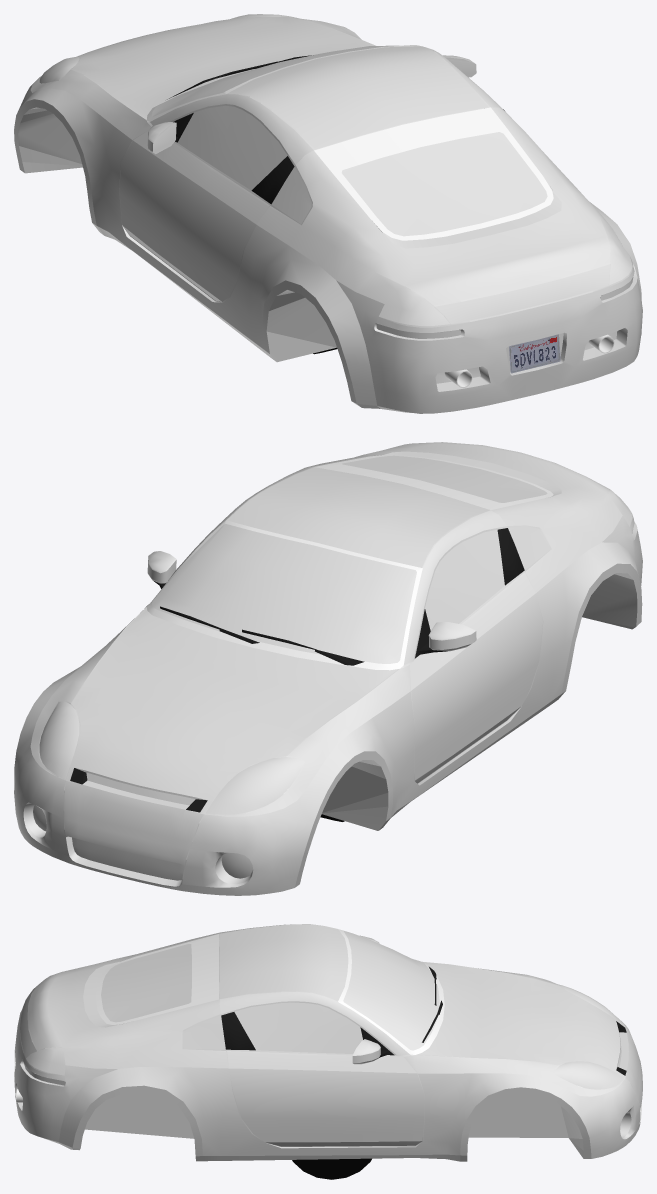
3 views of the same model, one above another, from view 1: azimuth 30°, elevation 25°; view 2: azimuth 150°, elevation 25°; view 3: azimuth 270°, elevation 25° (orthographic). The views are drawn at different scales.
Parts seen in each view (by area): view 1: va_350z_04/resources/vehicle/va_350z_04/body_lod_0.xrsc@vroo; view 2: va_350z_04/resources/vehicle/va_350z_04/body_lod_0.xrsc@vroo; view 3: va_350z_04/resources/vehicle/va_350z_04/body_lod_0.xrsc@vroo.
Boxes of the visible parts, x1,y1,x2,y2 form: va_350z_04/resources/vehicle/va_350z_04/body_lod_0.xrsc@vroo: (14, 14, 642, 413); va_350z_04/resources/vehicle/va_350z_04/body_lod_0.xrsc@vroo: (14, 442, 642, 895); va_350z_04/resources/vehicle/va_350z_04/body_lod_0.xrsc@vroo: (14, 924, 642, 1179).
Bounding box in the file's own units: 1.94 × 1.65 × 4.3.
11 materials, 7 textured.
